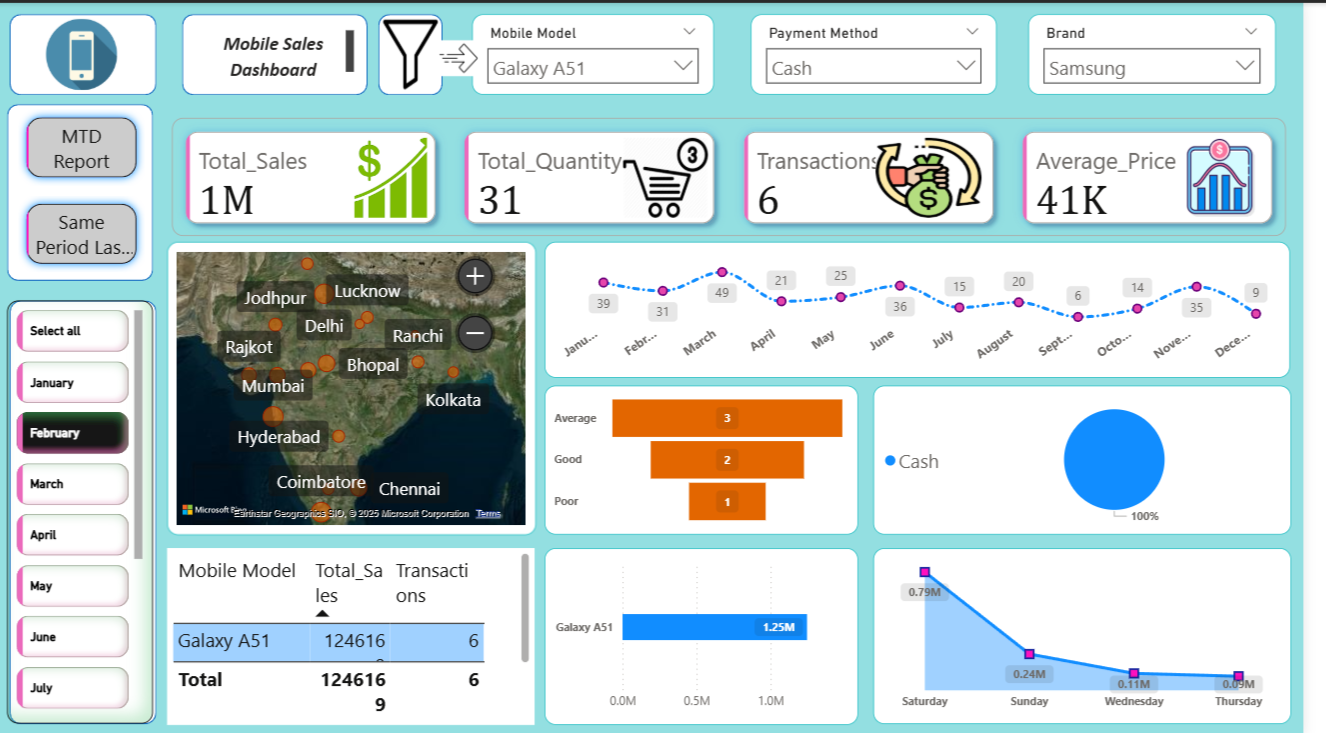

This screenshot's page, from the dashboard's own definition file:
{"tool":"powerbi","page":{"name":"Page 1","canvas":[1280,720],"ordinal":0},"visuals":[{"type":"shape","box":[9.6,11,144.1,79.6],"z":0},{"type":"shape","box":[7.8,100,143.3,173.3],"z":1000},{"type":"shape","box":[9.6,292.3,144.1,415.8],"z":2000},{"type":"advancedSlicerVisual","fields":{"Values":["Custom_Calander.Column1.Variation.Date Hierarchy.Month"]},"box":[7.8,292.2,143.3,415.6],"z":3000},{"type":"cardVisual","fields":{"Data":["Mobile_Sales.Total_Sales","Mobile_Sales.Total_Quantity","Mobile_Sales.Transactions","Mobile_Sales.Average_Price"]},"box":[164.7,108.4,1103.3,126.2],"z":4000},{"type":"image","box":[343.1,127.6,81,87.8],"z":5000},{"type":"image","box":[607.9,127.6,93.3,87.8],"z":6000},{"type":"image","box":[854.9,127.6,113.9,87.8],"z":7000},{"type":"image","box":[1155.4,127.6,86.4,87.8],"z":8000},{"type":"slicer","fields":{"Values":["Mobile_Sales.Mobile Model"]},"box":[463.8,11,237.4,79.6],"z":9000},{"type":"slicer","fields":{"Values":["Mobile_Sales.Payment Method"]},"box":[736.9,11,241.5,79.6],"z":10000},{"type":"slicer","fields":{"Values":["Mobile_Sales.Brand"]},"box":[1010,11,242.9,79.6],"z":11000},{"type":"shape","box":[371.9,11,63.1,79.6],"z":12000},{"type":"image","box":[371.9,11,63.1,79.6],"z":13000},{"type":"image","box":[424.4,32.1,52.6,44.9],"z":14000},{"type":"shape","box":[179.5,11.5,182.1,79.5],"z":15000},{"type":"textbox","box":[192.3,21.8,160.3,55.1],"z":16000},{"type":"image","box":[17.9,11.5,124.4,79],"z":17000},{"type":"map","fields":{"Category":["Mobile_Sales.City"],"Size":["Mobile_Sales.Total_Sales"]},"box":[164.4,234.4,362.2,287.8],"z":18000},{"type":"lineChart","fields":{"Category":["Custom_Calander.Column1.Variation.Date Hierarchy.Month"],"Y":["Mobile_Sales.Total_Quantity"]},"box":[535.6,234.4,732.2,133.3],"z":19000},{"type":"funnel","fields":{"Y":["CountNonNull(Mobile_Sales.Customer Ratings)"],"Category":["Mobile_Sales.Rating Status"]},"box":[535.6,375.6,307.8,146.7],"z":20000},{"type":"pieChart","fields":{"Category":["Mobile_Sales.Payment Method"],"Y":["Mobile_Sales.Transactions"]},"box":[857.7,375.6,410.3,146.2],"z":21000},{"type":"clusteredBarChart","fields":{"Category":["Mobile_Sales.Mobile Model"],"Y":["Mobile_Sales.Total_Sales"]},"box":[535.6,534.4,307.8,173.3],"z":22000},{"type":"areaChart","fields":{"Y":["Mobile_Sales.Total_Sales"],"Category":["Custom_Calander.Day Name"]},"box":[857.7,534.6,410.3,173.1],"z":23000},{"type":"tableEx","fields":{"Values":["Mobile_Sales.Mobile Model","Mobile_Sales.Total_Sales","Mobile_Sales.Transactions"]},"box":[164.4,534.4,361.1,173.3],"z":24000},{"type":"pageNavigator","box":[17.9,103.8,124.4,160.3],"z":25000}]}

Visuals, with their boxes in screenshot pixels (x1, y1, x2, y2), scaled from the page's 1280x720 canvas onto the 1326x733 screenshot:
shape: locate(10, 11, 159, 92)
shape: locate(8, 102, 157, 278)
shape: locate(10, 298, 159, 721)
advancedSlicerVisual - Custom_Calander.Column1.Variation.Date Hierarchy.Month: locate(8, 297, 157, 721)
cardVisual - Mobile_Sales.Total_Sales x Mobile_Sales.Total_Quantity: locate(171, 110, 1314, 239)
image: locate(355, 130, 439, 219)
image: locate(630, 130, 726, 219)
image: locate(886, 130, 1004, 219)
image: locate(1197, 130, 1286, 219)
slicer - Mobile_Sales.Mobile Model: locate(480, 11, 726, 92)
slicer - Mobile_Sales.Payment Method: locate(763, 11, 1014, 92)
slicer - Mobile_Sales.Brand: locate(1046, 11, 1298, 92)
shape: locate(385, 11, 451, 92)
image: locate(385, 11, 451, 92)
image: locate(440, 33, 494, 78)
shape: locate(186, 12, 375, 93)
textbox: locate(199, 22, 365, 78)
image: locate(19, 12, 147, 92)
map - Mobile_Sales.City x Mobile_Sales.Total_Sales: locate(170, 239, 546, 532)
lineChart - Custom_Calander.Column1.Variation.Date Hierarchy.Month x Mobile_Sales.Total_Quantity: locate(555, 239, 1313, 374)
funnel - CountNonNull(Mobile_Sales.Customer Ratings) x Mobile_Sales.Rating Status: locate(555, 382, 874, 532)
pieChart - Mobile_Sales.Payment Method x Mobile_Sales.Transactions: locate(889, 382, 1314, 531)
clusteredBarChart - Mobile_Sales.Mobile Model x Mobile_Sales.Total_Sales: locate(555, 544, 874, 720)
areaChart - Mobile_Sales.Total_Sales x Custom_Calander.Day Name: locate(889, 544, 1314, 720)
tableEx - Mobile_Sales.Mobile Model x Mobile_Sales.Total_Sales: locate(170, 544, 544, 720)
pageNavigator: locate(19, 106, 147, 269)
